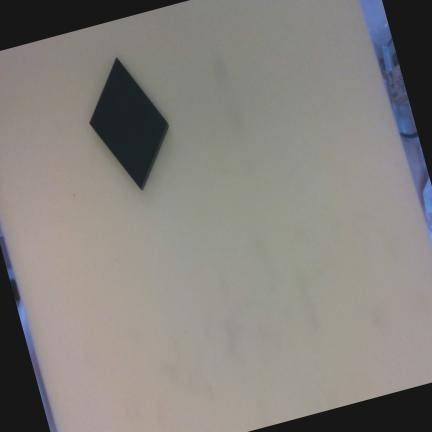tile: (68, 57, 188, 189)
